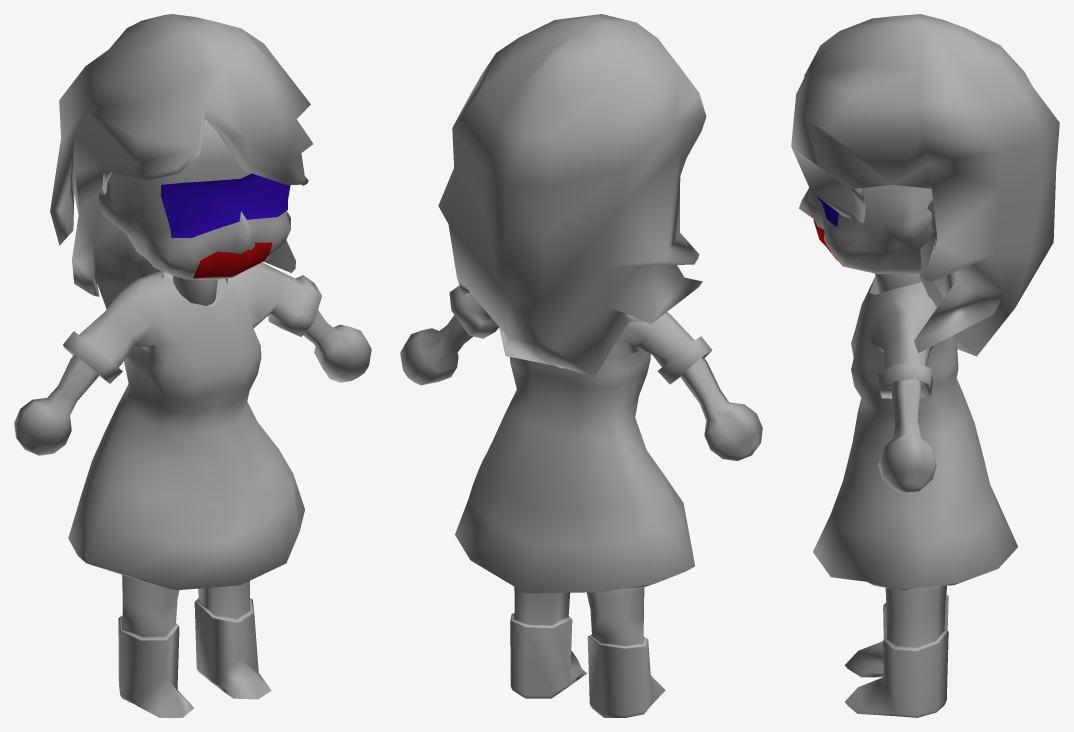
File: New Penelope.fbx
3 views of the same model, side by side, from view 1: azimuth 30°, elevation 25°; view 2: azimuth 150°, elevation 25°; view 3: azimuth 270°, elevation 25° (orthographic).
Visible parts, largest first — view 1: Pene1; view 2: Pene1; view 3: Pene1.
Boxes of the visible parts, box(x1,y1,x2,y2) form: Pene1: box(14, 14, 371, 717); Pene1: box(400, 14, 762, 717); Pene1: box(791, 14, 1059, 717).
Bounding box in the file's own units: 0.8625 × 1.56 × 0.5719.
